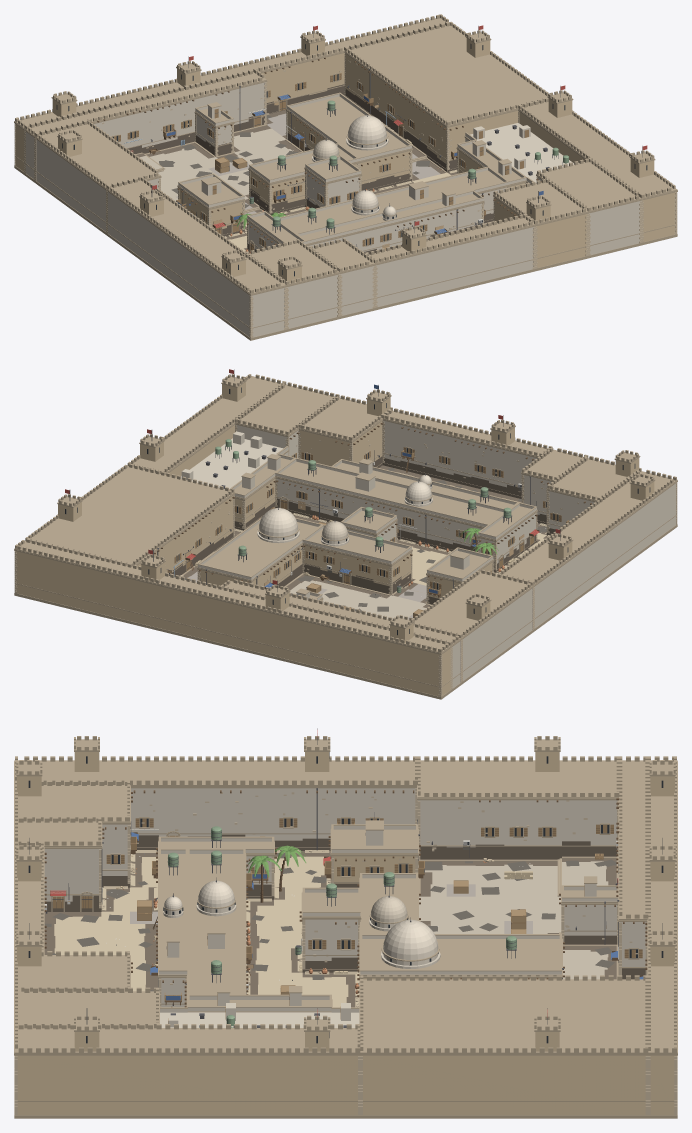
The model's file is dunehold_market.glb.
The picture shows the model from 3 angles, top to bottom: view 1: azimuth 30°, elevation 25°; view 2: azimuth 150°, elevation 25°; view 3: azimuth 270°, elevation 25°; orthographic projection. The views are drawn at different scales.
Visible parts, largest first — view 1: trim, plaster, sandstone, grime, stone, tiles, wood, darkwood, dirt, iron, decal, paving (+3 smaller); view 2: trim, sandstone, plaster, grime, stone, tiles, wood, dirt, darkwood, sand, iron, glass (+2 smaller); view 3: trim, sandstone, plaster, sand, tiles, grime, dirt, stone, wood, decal, darkwood, iron (+5 smaller).
Part boxes in pixels (x1=…): trim: x1=14, y1=14, x2=677, y2=340; plaster: x1=26, y1=82, x2=641, y2=337; sandstone: x1=16, y1=38, x2=676, y2=283; grime: x1=127, y1=84, x2=493, y2=254; stone: x1=14, y1=53, x2=677, y2=337; tiles: x1=139, y1=128, x2=339, y2=201; wood: x1=112, y1=73, x2=528, y2=250; darkwood: x1=91, y1=57, x2=541, y2=247; dirt: x1=136, y1=97, x2=492, y2=249; iron: x1=126, y1=26, x2=642, y2=247; decal: x1=159, y1=115, x2=487, y2=225; paving: x1=176, y1=113, x2=440, y2=214; trim: x1=14, y1=374, x2=677, y2=699; sandstone: x1=15, y1=382, x2=654, y2=696; plaster: x1=181, y1=420, x2=675, y2=687; grime: x1=169, y1=456, x2=555, y2=604; stone: x1=14, y1=421, x2=677, y2=696; tiles: x1=290, y1=521, x2=426, y2=619; wood: x1=174, y1=447, x2=568, y2=618; dirt: x1=180, y1=465, x2=547, y2=607; darkwood: x1=150, y1=423, x2=591, y2=615; sand: x1=234, y1=472, x2=550, y2=585; iron: x1=69, y1=369, x2=560, y2=617; glass: x1=65, y1=387, x2=650, y2=635; trim: x1=14, y1=736, x2=677, y2=1118; sandstone: x1=15, y1=752, x2=676, y2=1114; plaster: x1=44, y1=788, x2=647, y2=1027; sand: x1=54, y1=850, x2=359, y2=1007; tiles: x1=370, y1=861, x2=608, y2=979; grime: x1=45, y1=834, x2=645, y2=979; dirt: x1=44, y1=851, x2=616, y2=1007; stone: x1=14, y1=788, x2=677, y2=1114; wood: x1=53, y1=818, x2=642, y2=1023; decal: x1=44, y1=844, x2=616, y2=991; darkwood: x1=44, y1=790, x2=647, y2=1007; iron: x1=29, y1=728, x2=662, y2=1027.
Bounding box in the file's own units: 96.28 × 16.01 × 92.28.
